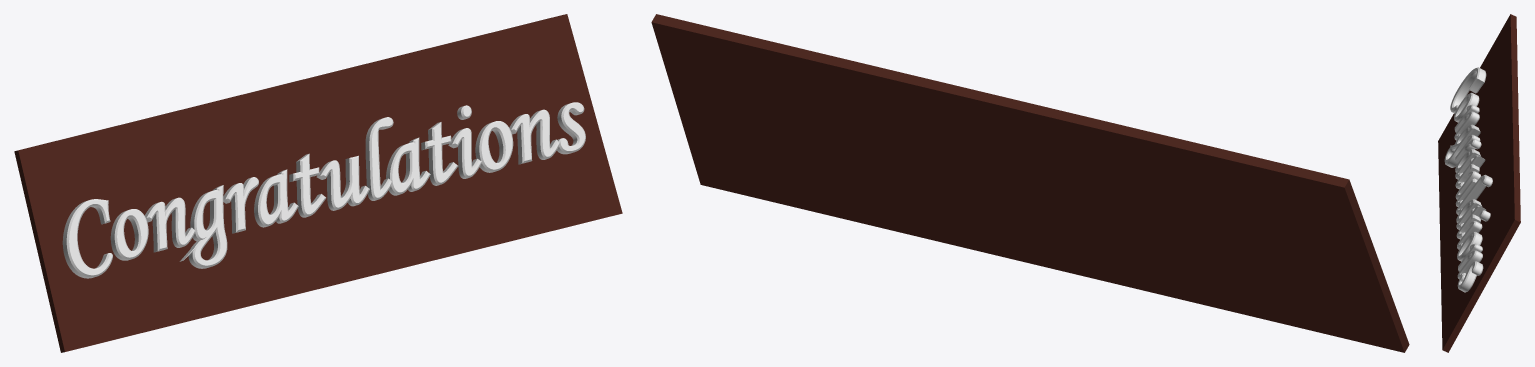
File: congscoklat.fbx
3 renders of one model, left to right at view 1: azimuth 30°, elevation 25°; view 2: azimuth 150°, elevation 25°; view 3: azimuth 270°, elevation 25°, orthographic. The views are drawn at different scales.
Parts seen in each view (by area): view 1: Text; view 2: Text; view 3: Text.
Boxes of the visible parts, x1,y1,x2,y2 form: Text: [14, 14, 622, 352]; Text: [651, 14, 1409, 352]; Text: [1438, 14, 1520, 352].
Bounding box in the file's own units: 606 × 176 × 101.
